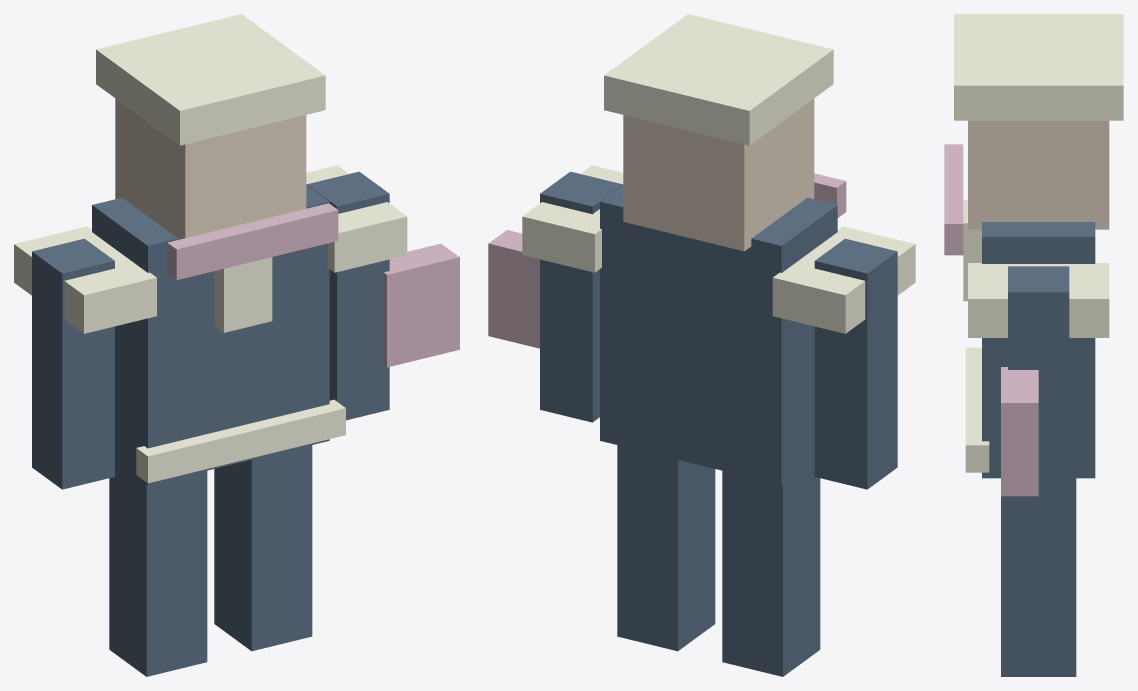
Rendered from 20_zerin_gravesong_tactician_of_counterweight.glb.
The picture shows the model from 3 angles, left to right: view 1: azimuth 30°, elevation 25°; view 2: azimuth 150°, elevation 25°; view 3: azimuth 270°, elevation 25°; orthographic projection.
Parts seen in each view (by area): view 1: Zerin Gravesong, Tactician of Counterweight; view 2: Zerin Gravesong, Tactician of Counterweight; view 3: Zerin Gravesong, Tactician of Counterweight.
Boxes of the visible parts, x1=… form: Zerin Gravesong, Tactician of Counterweight: x1=14, y1=14, x2=459, y2=676; Zerin Gravesong, Tactician of Counterweight: x1=488, y1=14, x2=915, y2=676; Zerin Gravesong, Tactician of Counterweight: x1=944, y1=14, x2=1123, y2=676.
Bounding box in the file's own units: 1.06 × 1.49 × 0.4125.
